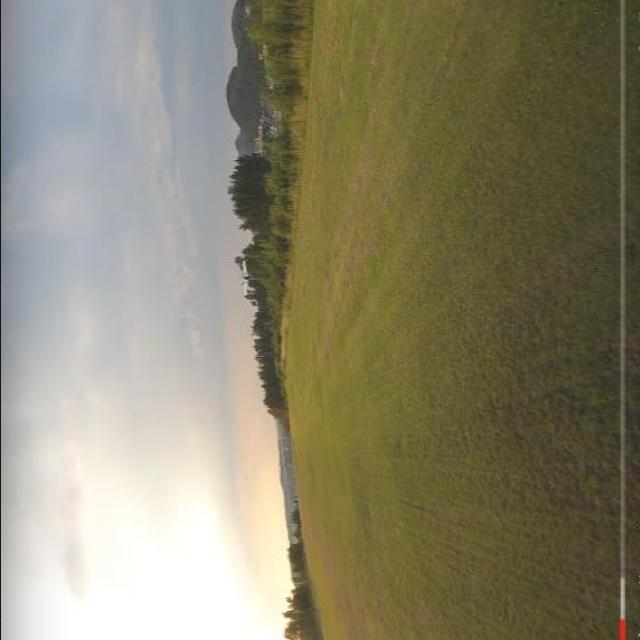plane: (239, 262, 250, 296)
